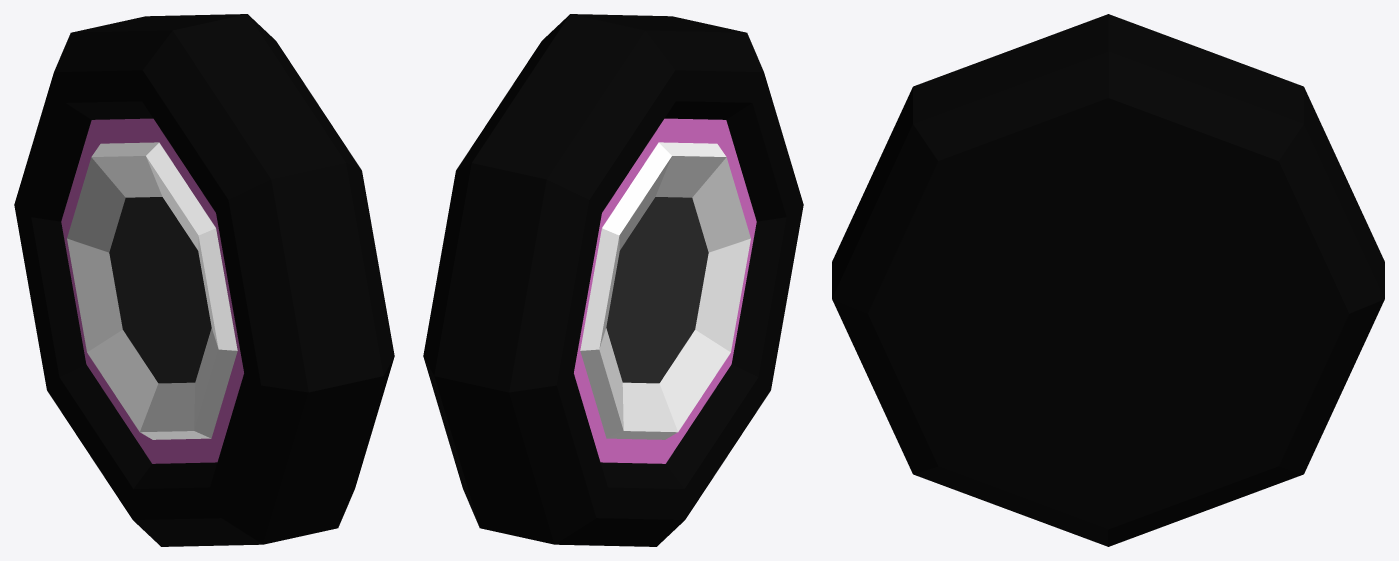
The model's file is TireMirror.fbx.
3 views of the same model, side by side, from view 1: azimuth 30°, elevation 25°; view 2: azimuth 150°, elevation 25°; view 3: azimuth 270°, elevation 25° (orthographic). The views are drawn at different scales.
Parts seen in each view (by area): view 1: LeftTire; view 2: LeftTire; view 3: LeftTire.
Part boxes in pixels (x1,y1,x2,y2): LeftTire: (14,14,394,546); LeftTire: (423,14,803,546); LeftTire: (832,14,1384,546).
Bounding box in the file's own units: 23.3 × 80.04 × 79.78.
